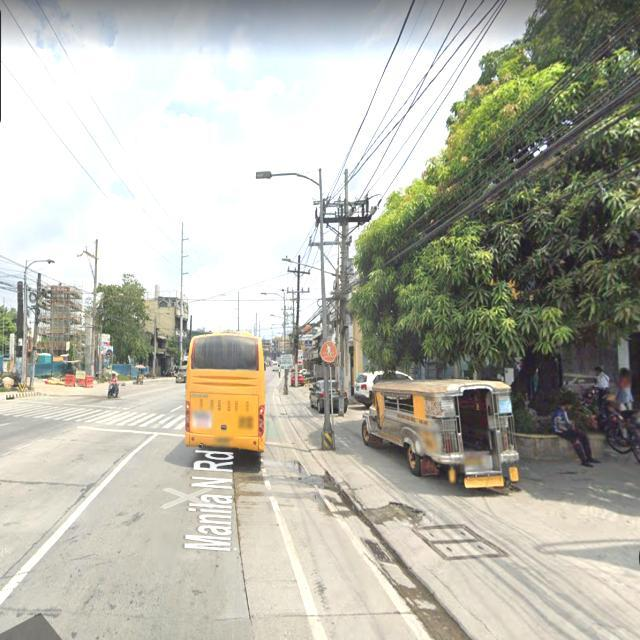pedestrian crossing: (319, 338, 341, 367)
